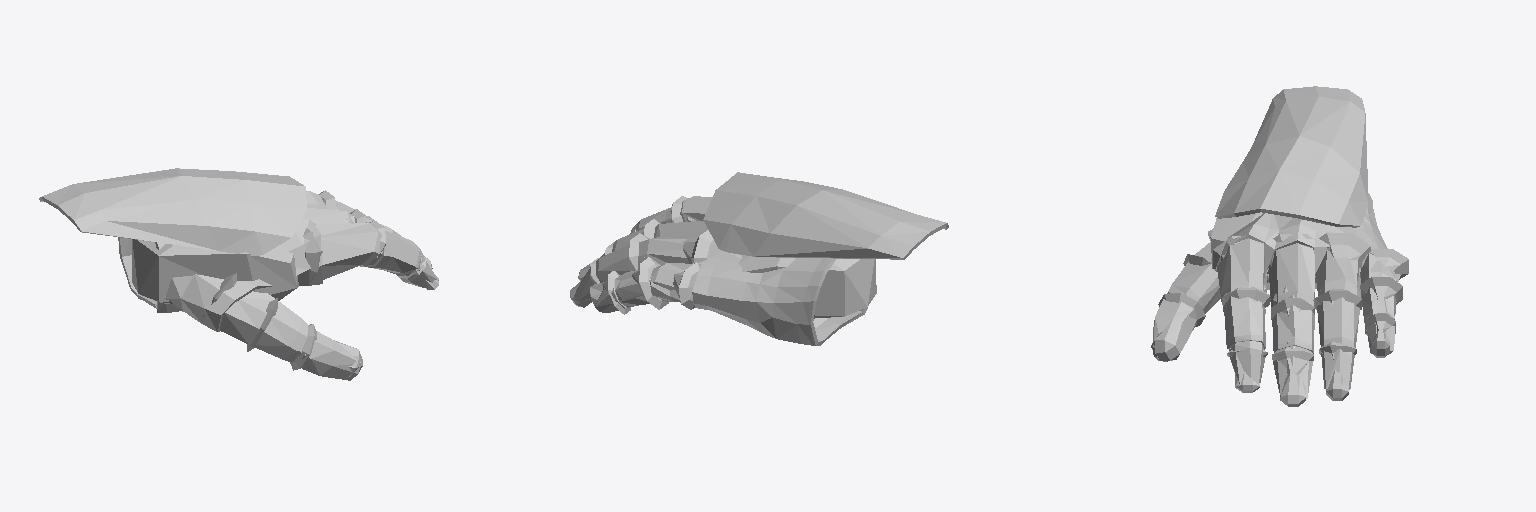
The model's file is lpalm.obj.
3 views of the same model, side by side, from view 1: azimuth 30°, elevation 25°; view 2: azimuth 150°, elevation 25°; view 3: azimuth 270°, elevation 25° (orthographic).
Parts seen in each view (by area): view 1: IronMan:null_69, IronMan:null_127, IronMan:null_13, IronMan:null_110, IronMan:null_14, IronMan:null_130, IronMan:null_10; view 2: IronMan:null_69, IronMan:null_110, IronMan:null_127, IronMan:null_11, IronMan:null_12, IronMan:null_140, IronMan:null_141, IronMan:null_10, IronMan:null_14, IronMan:null_137; view 3: IronMan:null_69, IronMan:null_14, IronMan:null_10, IronMan:null_11, IronMan:null_110, IronMan:null_13, IronMan:null_130, IronMan:null_12, IronMan:null_136, IronMan:null_137, IronMan:null_141, IronMan:null_127 (+3 smaller).
Boxes of the visible parts, <box> form: IronMan:null_69: <box>39,168,306,255</box>; IronMan:null_127: <box>132,239,298,311</box>; IronMan:null_13: <box>220,291,360,380</box>; IronMan:null_110: <box>118,218,322,331</box>; IronMan:null_14: <box>315,223,438,287</box>; IronMan:null_130: <box>290,324,362,376</box>; IronMan:null_10: <box>302,208,395,273</box>; IronMan:null_69: <box>703,172,948,259</box>; IronMan:null_110: <box>692,243,867,345</box>; IronMan:null_127: <box>739,255,876,318</box>; IronMan:null_11: <box>574,237,688,301</box>; IronMan:null_12: <box>595,263,701,312</box>; IronMan:null_140: <box>650,262,698,309</box>; IronMan:null_141: <box>615,257,668,309</box>; IronMan:null_10: <box>602,221,707,255</box>; IronMan:null_14: <box>630,196,711,233</box>; IronMan:null_137: <box>644,230,714,263</box>; IronMan:null_69: <box>1215,86,1368,227</box>; IronMan:null_14: <box>1217,238,1266,384</box>; IronMan:null_10: <box>1268,243,1314,398</box>; IronMan:null_11: <box>1315,250,1360,389</box>; IronMan:null_110: <box>1208,193,1387,282</box>; IronMan:null_13: <box>1153,242,1220,361</box>; IronMan:null_130: <box>1151,293,1205,360</box>; IronMan:null_12: <box>1360,253,1395,353</box>; IronMan:null_136: <box>1272,347,1313,406</box>; IronMan:null_137: <box>1319,233,1370,290</box>; IronMan:null_141: <box>1360,277,1402,319</box>; IronMan:null_127: <box>1211,212,1364,289</box>.
Size of the model in its own units: 31.87 by 14.94 by 19.76.